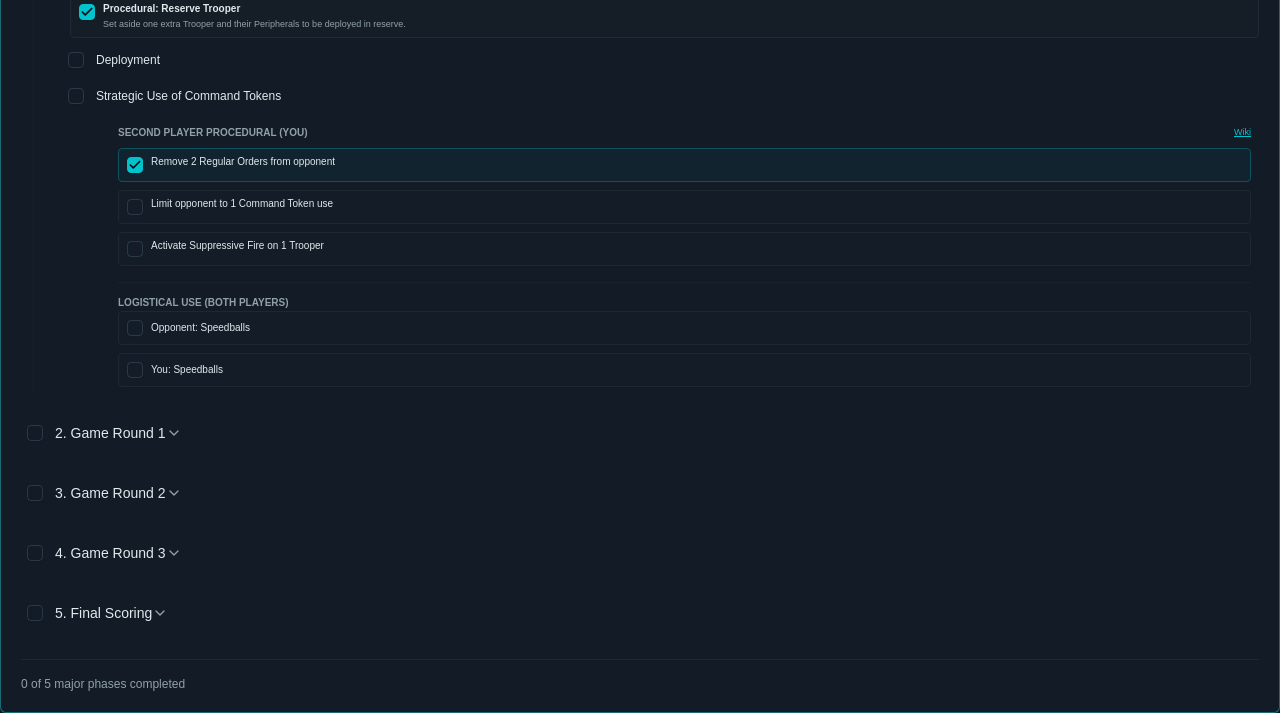
InfinityGameFlow Strategic Hints › shows 'Order Reduction' hint in Turn 1 Tactical Phase for opponent when user is second player and selected it
(page scrolled)
Open Round 1 accordion
Click the button "2. Game Round 1": (118, 433) [55,419,182,447]
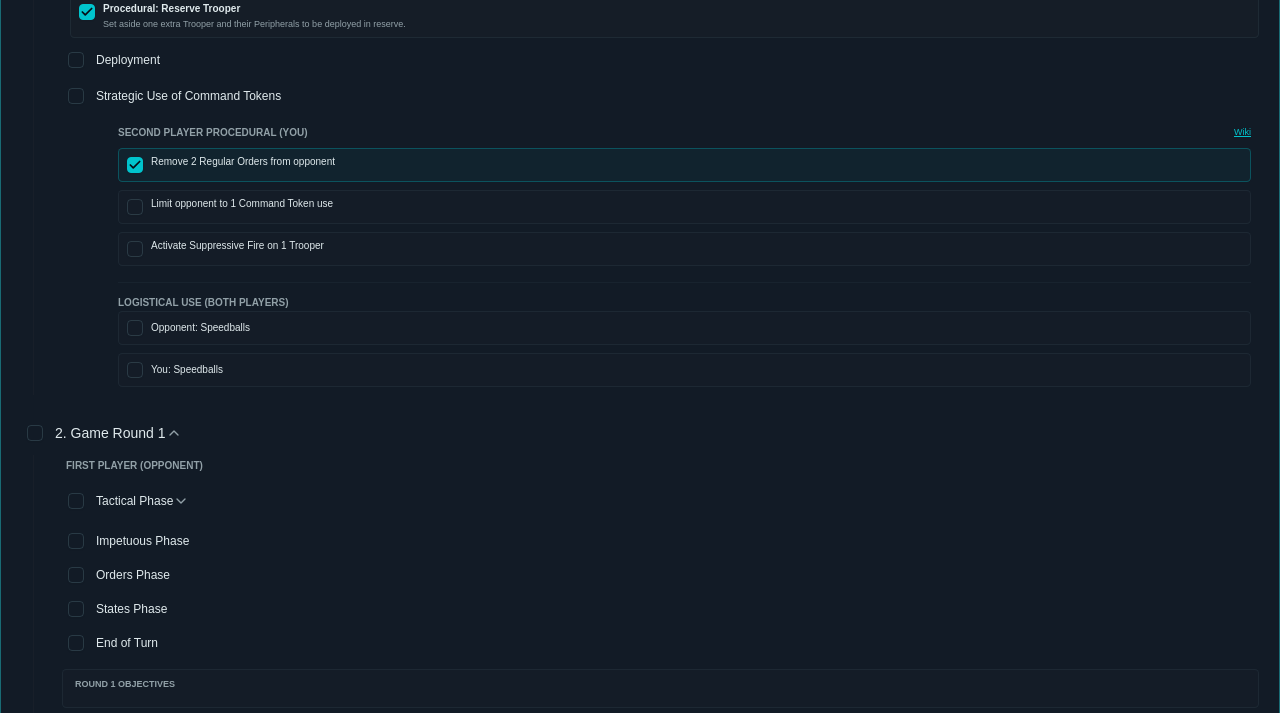
Use findAllByText and click the first one (which should be p1 - the opponent)
Click the button "Tactical Phase": (143, 501) [96,489,189,513]
(page scrolled)
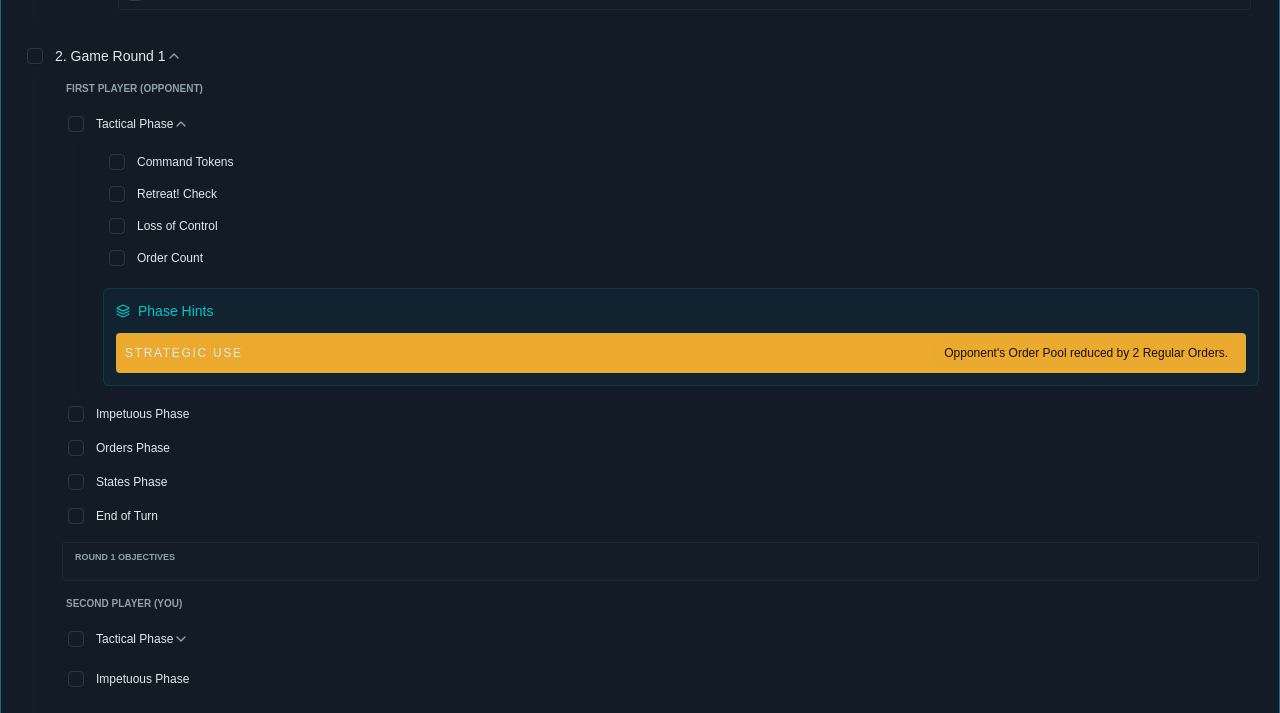
Expected: the text "Strategic Use" is shown, [125,345,243,361]
Expected: the text "Opponent's Order Pool reduced by 2 Regular Orders." is shown, [935,342,1237,364]
